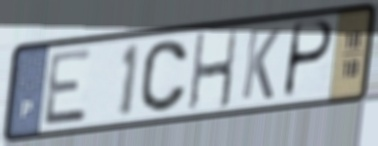1: (119, 39, 141, 121)
C: (137, 38, 190, 115)
E: (41, 45, 95, 129)
H: (186, 26, 240, 114)
K: (238, 26, 283, 103)
P: (280, 18, 335, 102)
